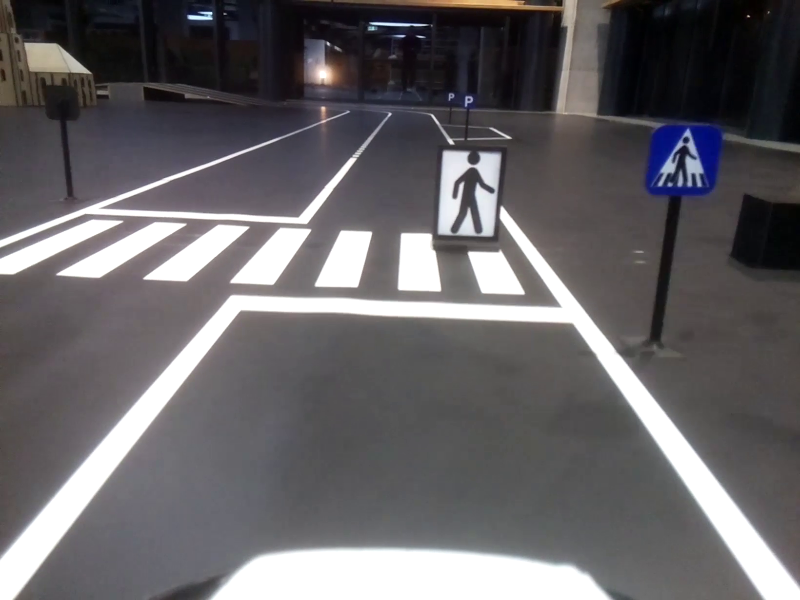pedestrian: (644, 127, 716, 196)
